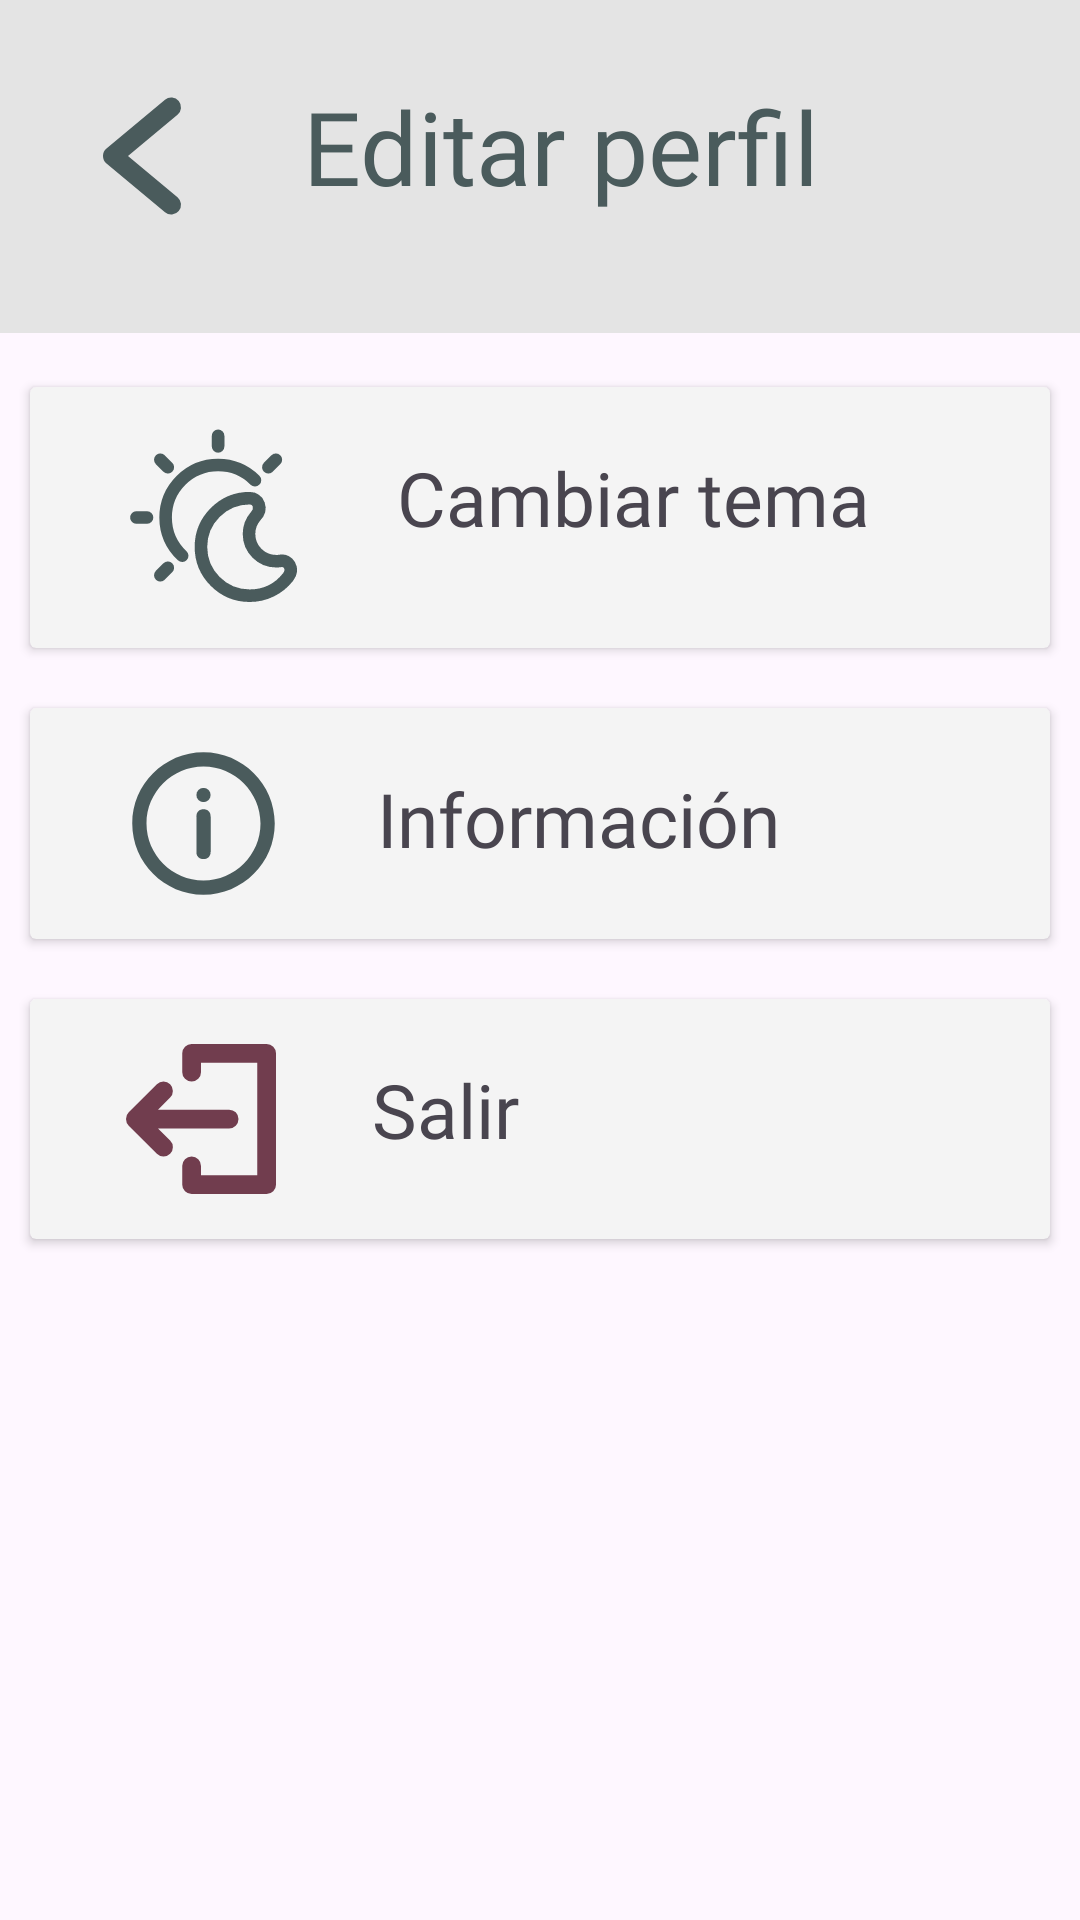

Icon bounding boxes for this 1080x1920 phone screenshot, format (left=x1, top=y1, right=x2, bottom=y2):
Flecha hacia atras: (left=103, top=97, right=181, bottom=215)
